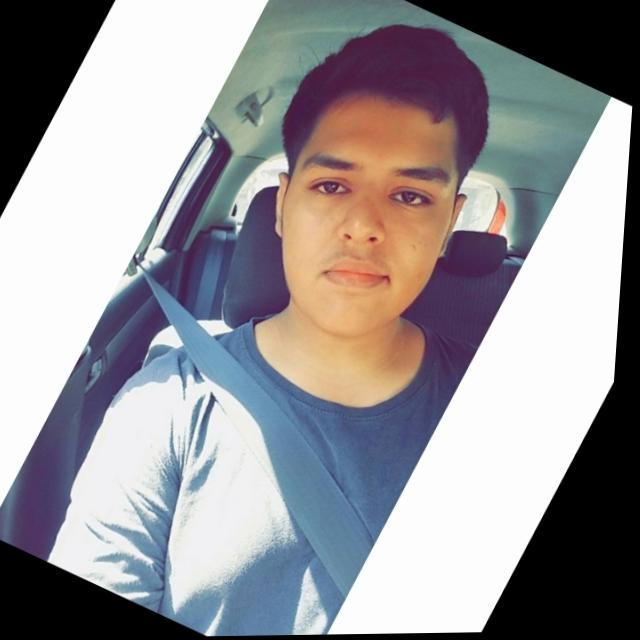Nonhelmet: (270, 21, 492, 338)
